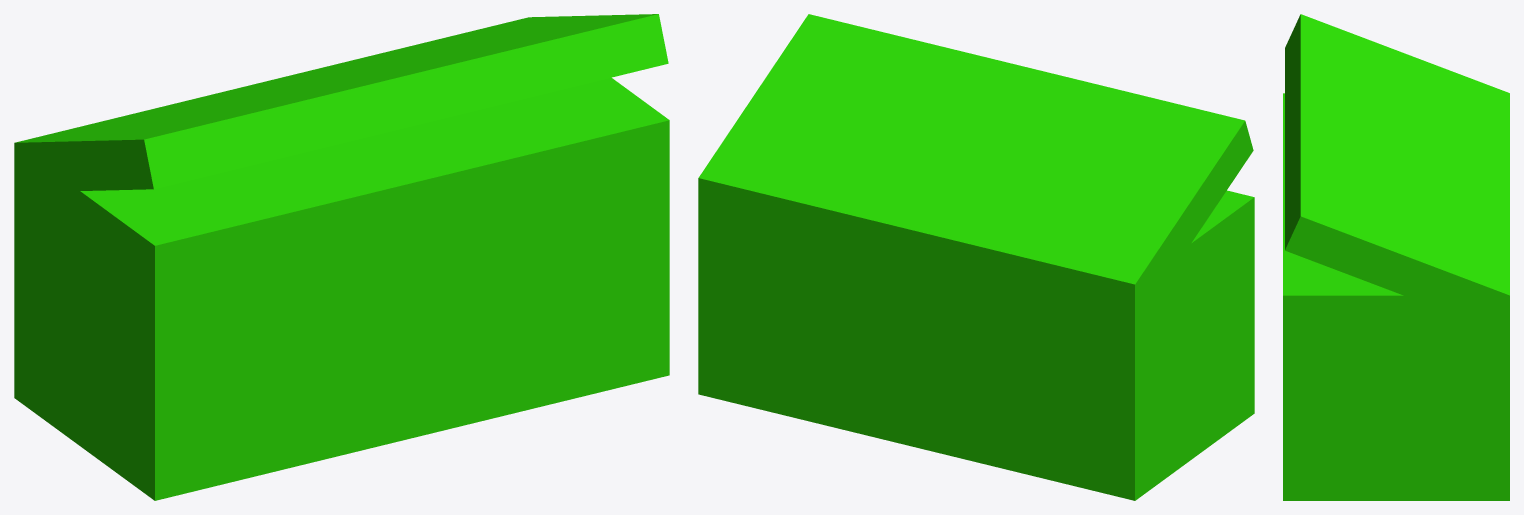
Rendered from caixaplaceholder.fbx.
The picture shows the model from 3 angles, left to right: view 1: azimuth 30°, elevation 25°; view 2: azimuth 150°, elevation 25°; view 3: azimuth 270°, elevation 25°; orthographic projection. The views are drawn at different scales.
Visible parts, largest first — view 1: Cube; view 2: Cube; view 3: Cube.
Part boxes in pixels (bbox=[...]): Cube: bbox=[14, 14, 669, 500]; Cube: bbox=[698, 14, 1254, 500]; Cube: bbox=[1283, 14, 1509, 500].
Size of the model in its own units: 422 by 277 by 200.
